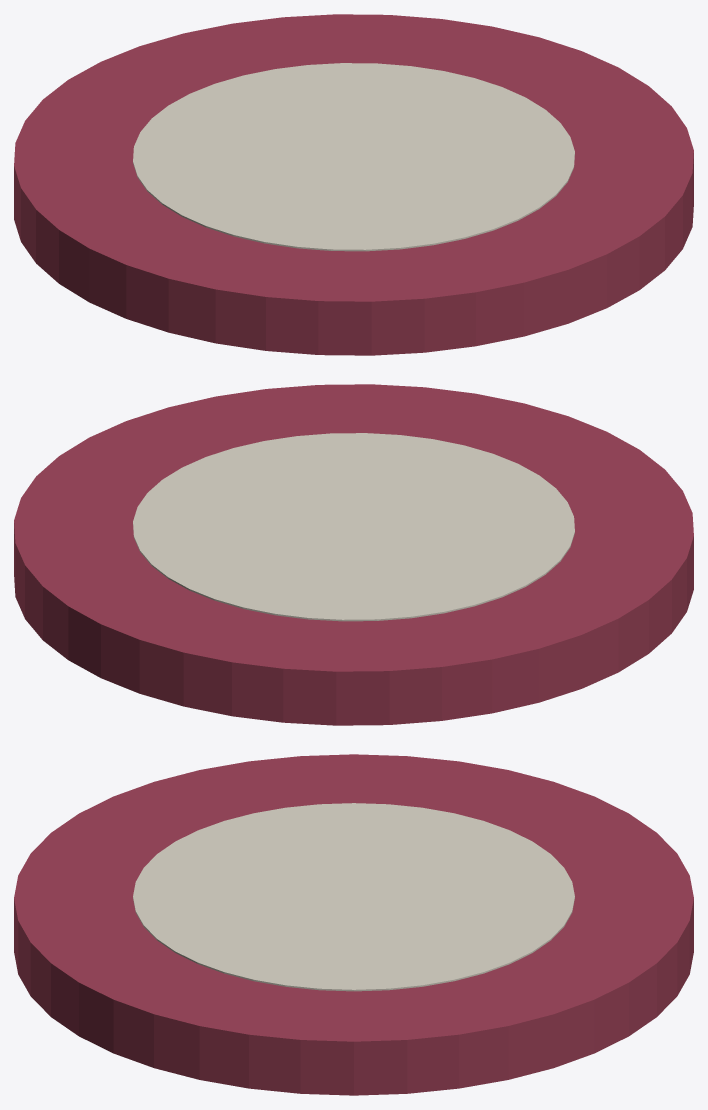
The model's file is chip.glb.
The picture shows the model from 3 angles, top to bottom: view 1: azimuth 30°, elevation 25°; view 2: azimuth 150°, elevation 25°; view 3: azimuth 270°, elevation 25°; orthographic projection.
Parts seen in each view (by area): view 1: chip_0, chip_1; view 2: chip_0, chip_1; view 3: chip_0, chip_1.
Part boxes in pixels (x1,y1,x2,y2): chip_0: (14, 14, 693, 355); chip_1: (133, 63, 574, 251); chip_0: (14, 384, 693, 725); chip_1: (133, 433, 574, 621); chip_0: (14, 754, 693, 1095); chip_1: (133, 803, 574, 991).
Bounding box in the file's own units: 0.04 × 0.0037 × 0.04.
